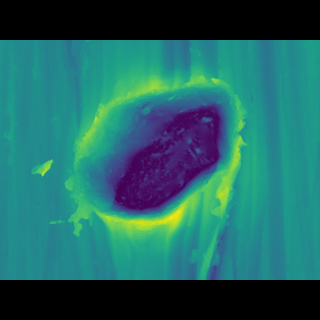Loch: (68, 84, 258, 220)
